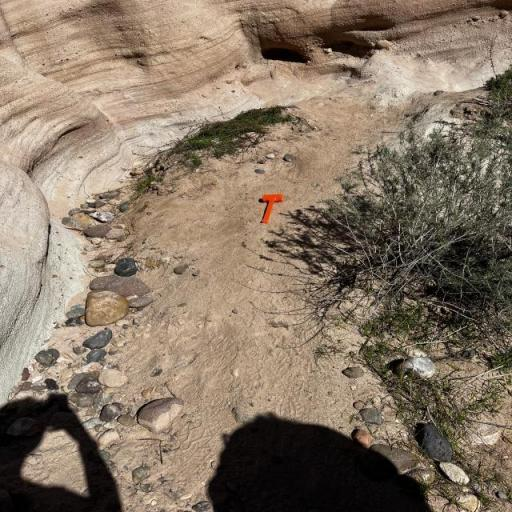mallet: (261, 194, 284, 224)
